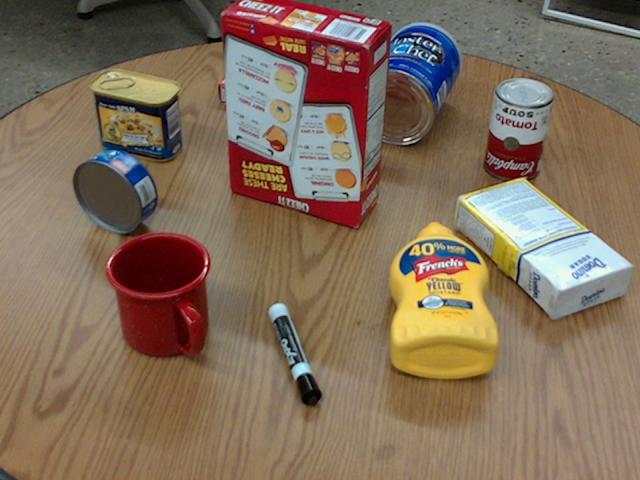cracker_box: (221, 0, 390, 225)
gelatin_box: (218, 61, 300, 115)
large_marker: (266, 302, 320, 405)
master_chef_can: (354, 22, 460, 144)
mug: (105, 231, 211, 357)
mustard_bottle: (388, 221, 498, 378)
potted_meat_can: (88, 70, 181, 161)
sugar_box: (453, 180, 633, 316)
tomato_soup_can: (482, 76, 552, 179)
tuna_fish_can: (73, 148, 156, 233)
